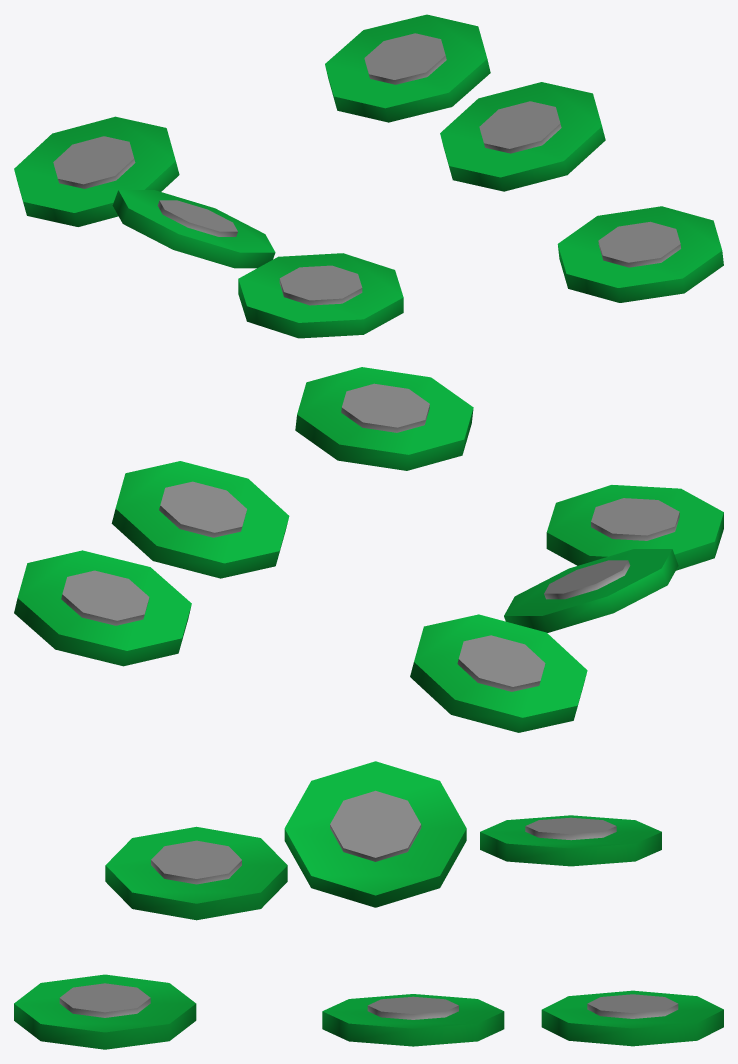
Rendered from MINE00.glb.
3 views of the same model, one above another, from view 1: azimuth 30°, elevation 25°; view 2: azimuth 150°, elevation 25°; view 3: azimuth 270°, elevation 25° (orthographic). The views are drawn at different scales.
Visible parts, largest first — view 1: FRAME_ROOT; view 2: FRAME_ROOT; view 3: FRAME_ROOT.
Boxes of the visible parts, x1,y1,x2,y2 form: FRAME_ROOT: (14,14,723,338); FRAME_ROOT: (14,367,723,732); FRAME_ROOT: (14,761,723,1049).
Size of the model in its own units: 6.74 by 0.95 by 7.79.
Materials: 1 (1 with a texture image).
